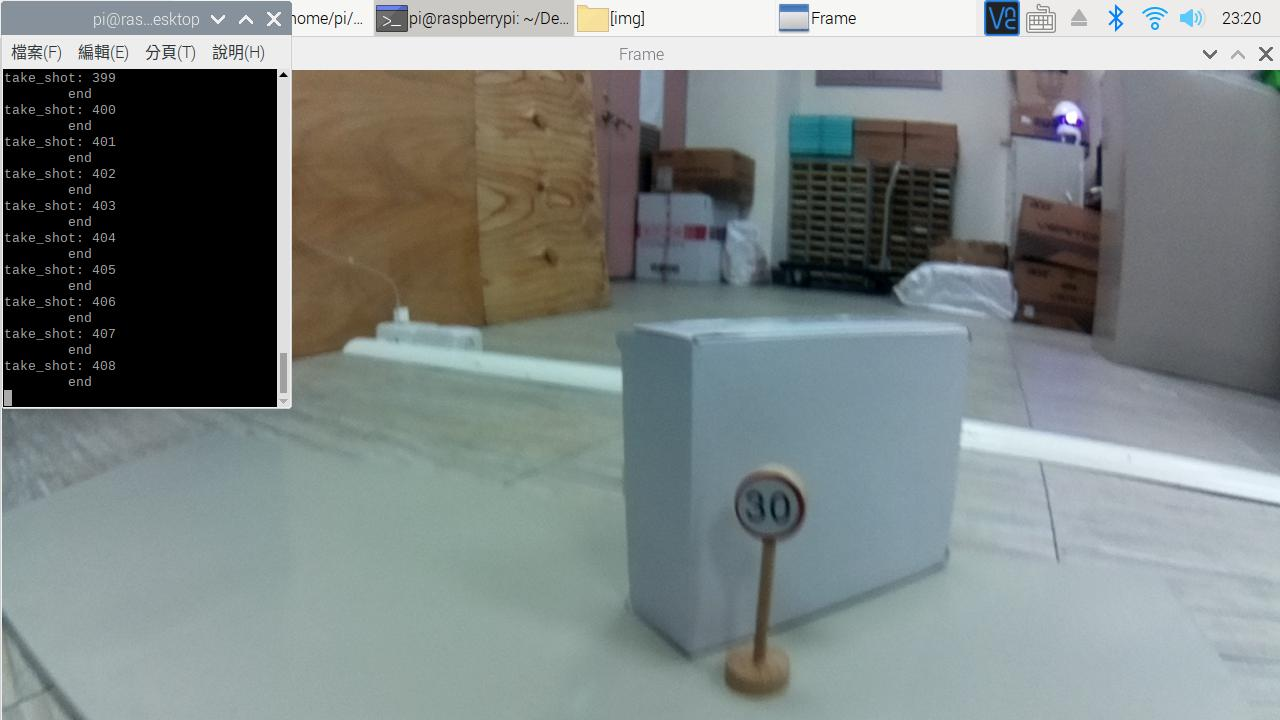Speed30: (694, 443, 844, 579)
